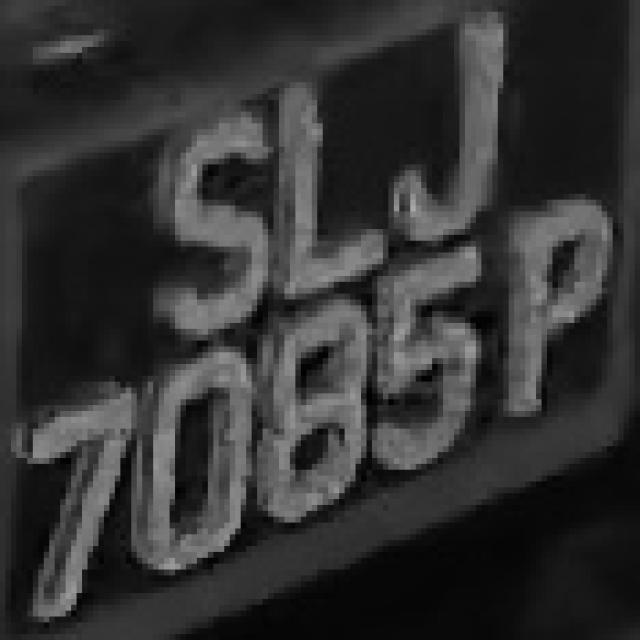0: (142, 329, 257, 575)
5: (383, 240, 492, 476)
7: (6, 388, 142, 634)
8: (262, 306, 378, 534)
J: (394, 12, 530, 235)
L: (262, 47, 394, 305)
P: (498, 188, 624, 411)
S: (137, 106, 279, 340)
